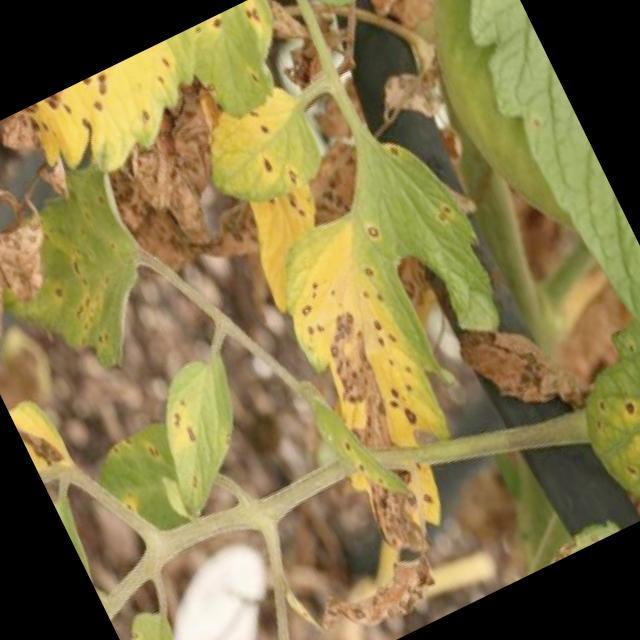Tomato Septoria spot leaf: (134, 98, 616, 640), (0, 0, 320, 224), (0, 148, 189, 401), (178, 60, 346, 234), (125, 345, 282, 526), (549, 301, 640, 525)
